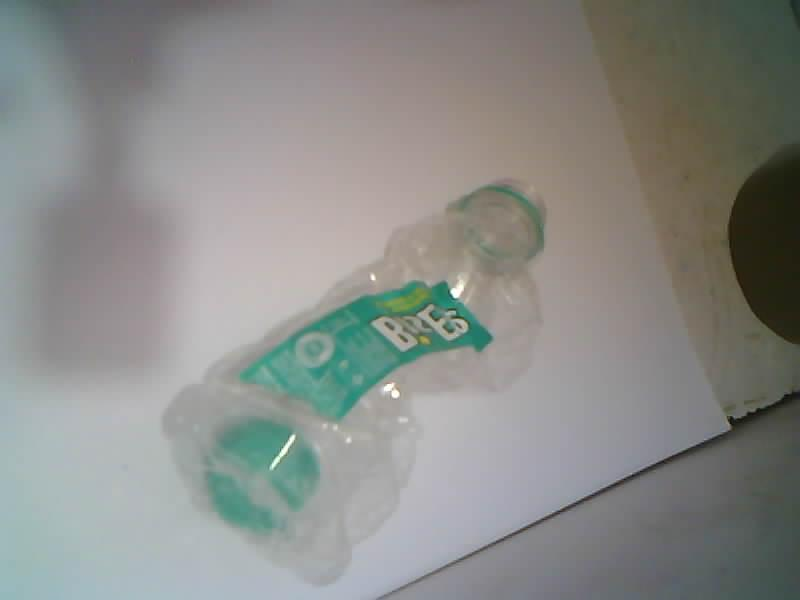non-biodegradable: (164, 182, 544, 584)
